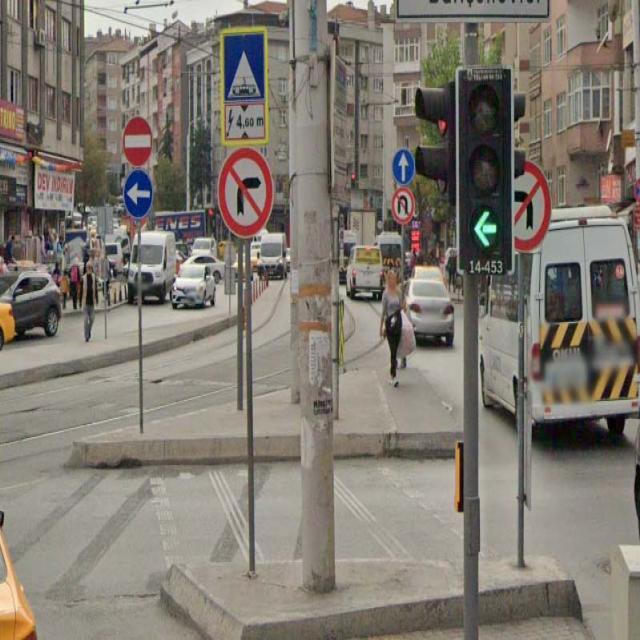girisyok: (123, 118, 153, 166)
sagadonulmez: (218, 147, 274, 239)
sol: (123, 170, 153, 218)
soladonulmez: (508, 161, 551, 255)
yesil: (457, 69, 511, 272)
